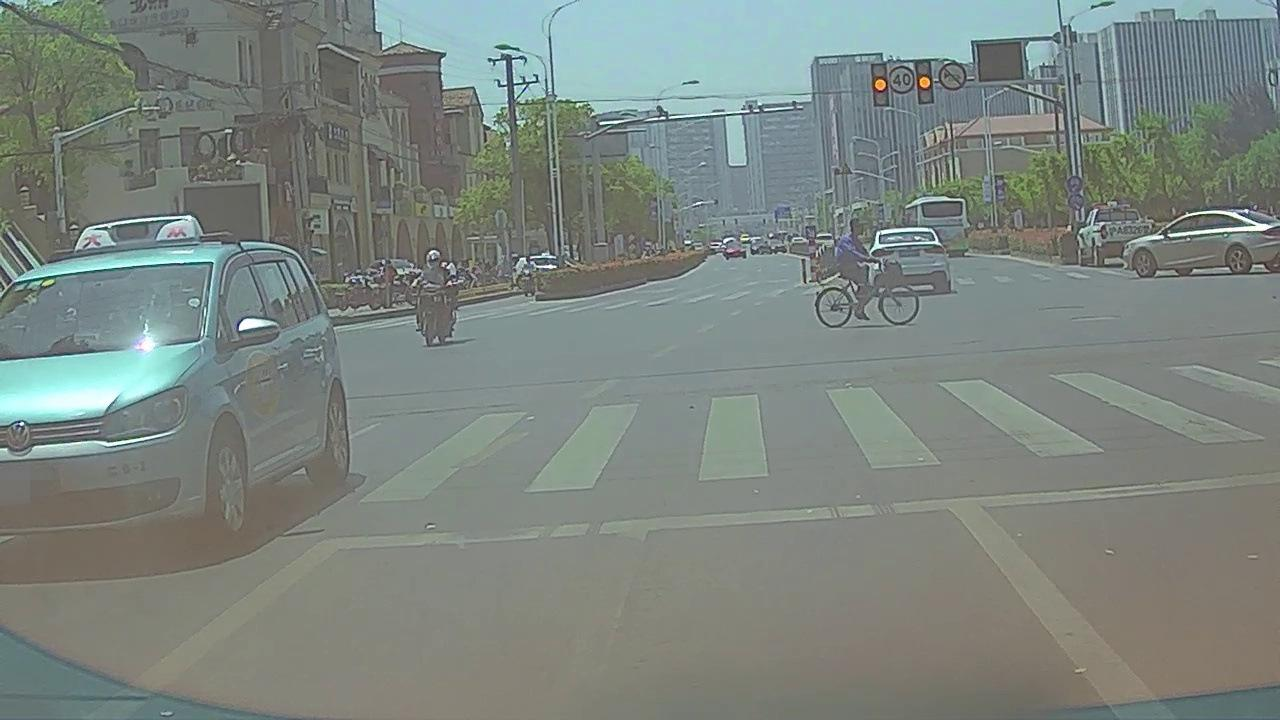traffic_light: (916, 60, 934, 103), (873, 64, 888, 107)
